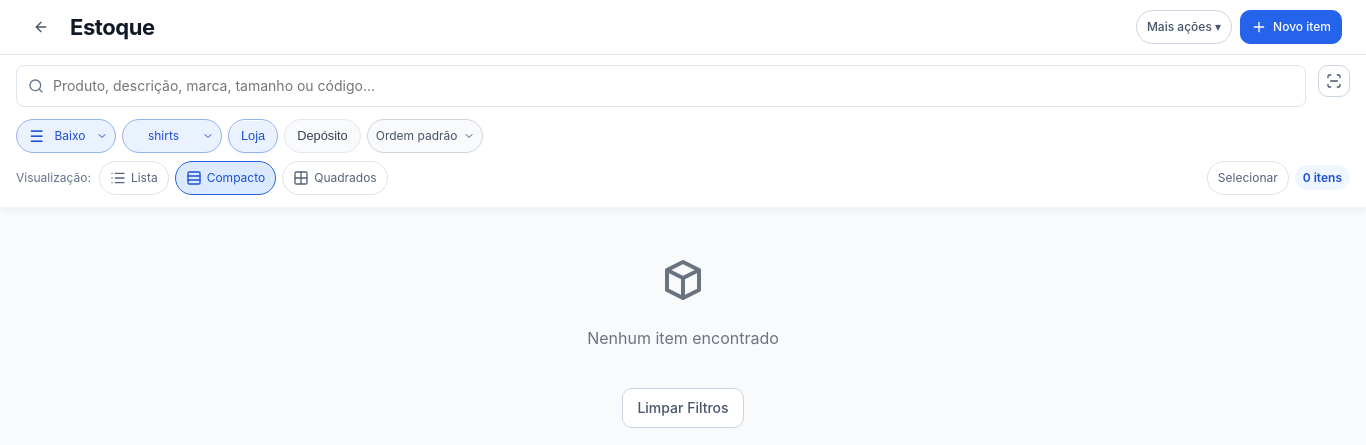
Test: Inventory empty search recovery › clears an unmatched search and combined filters once, without opening a product form
Type "no-match" into the search field with class "search-input" at (661, 86), box top-left (16, 65), bottom-right (1306, 107)
Wait 300 ms
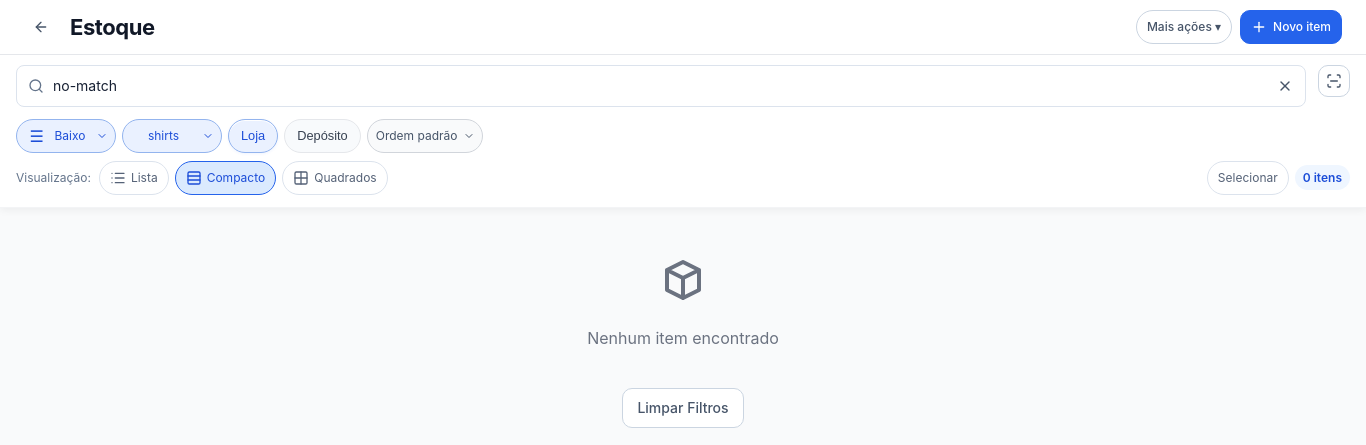
Click the button "Limpar Filtros" at (683, 408), box top-left (622, 388), bottom-right (744, 428)
Wait 300 ms
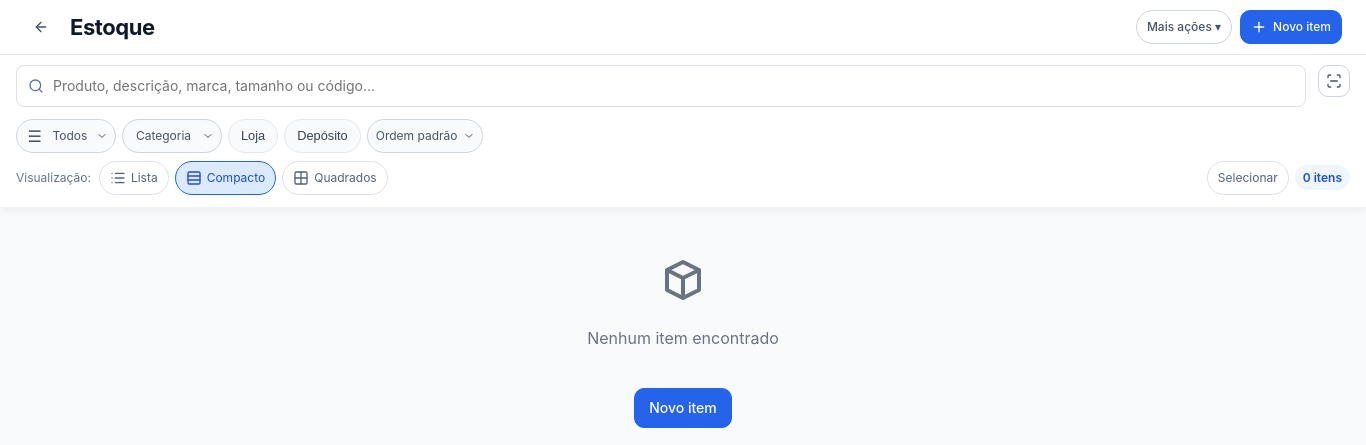
expect the search field with class "search-input" is empty: met, box top-left (16, 65), bottom-right (1306, 107)
